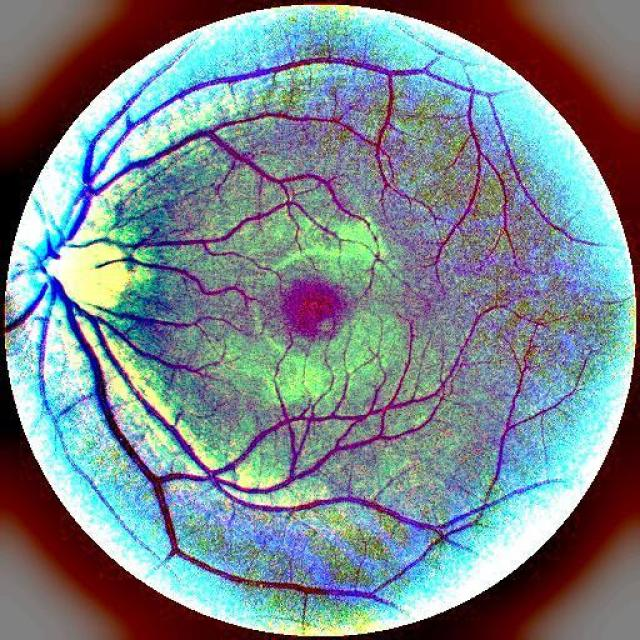Macula: (244, 266, 373, 365)
Nerves: (5, 58, 389, 543)
Optic Disk: (5, 159, 139, 383)
